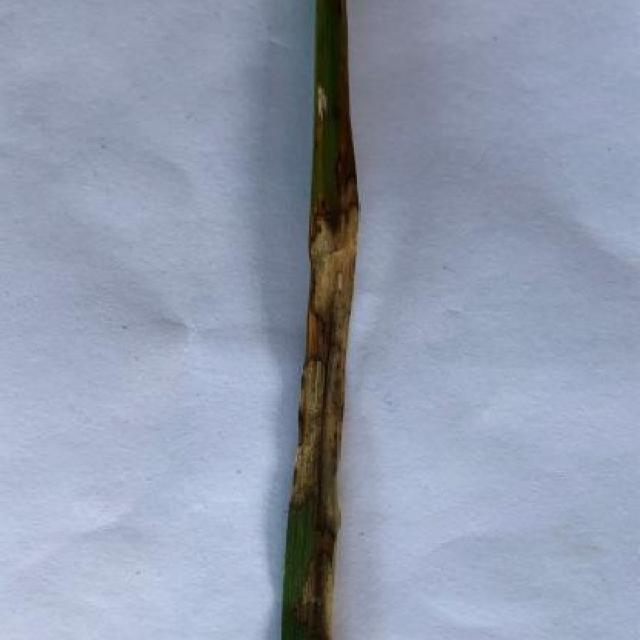Brown_Spot: (282, 0, 367, 640)
